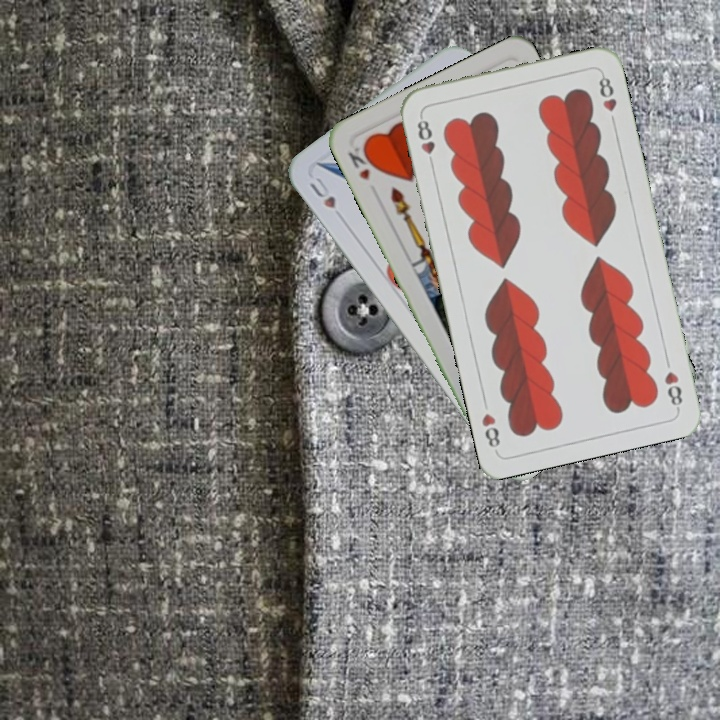H8: (413, 112, 438, 170), (660, 367, 685, 412)
HK: (344, 140, 379, 184)
HU: (305, 173, 338, 211)
